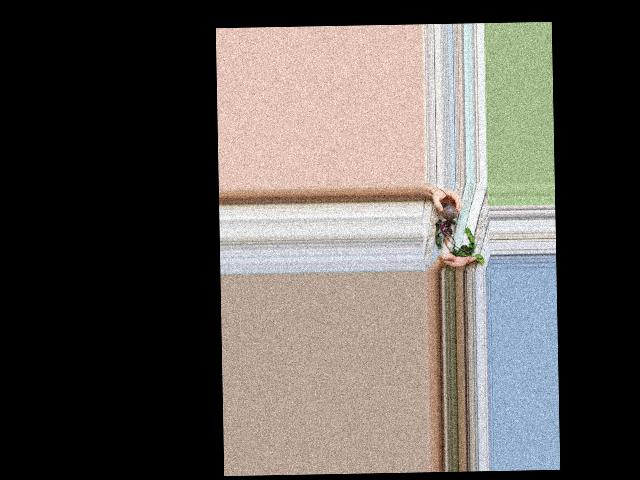beet: (435, 187, 484, 265)
